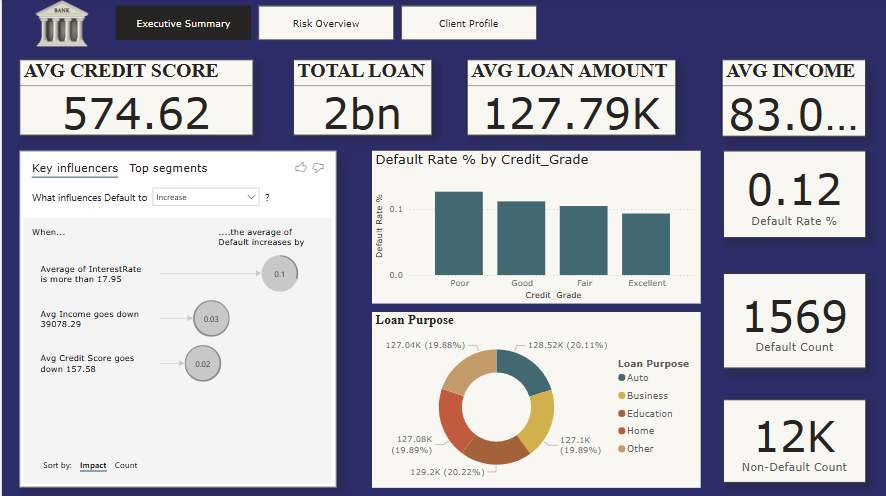

What the dashboard file says about the page in this screenshot:
{"tool":"powerbi","page":{"name":"Executive Summary","canvas":[1280,720],"ordinal":0},"visuals":[{"type":"card","title":"AVG LOAN AMOUNT","fields":{"Values":["loan_default_prediction loan_default_clean.Avg Loan Amount"]},"box":[662.8,89.6,297.2,108.1],"z":0},{"type":"card","title":"AVG INCOME","fields":{"Values":["loan_default_prediction loan_default_clean.Avg Income"]},"box":[1025.4,88.2,204.8,109.5],"z":1000},{"type":"card","title":"AVG CREDIT SCORE","fields":{"Values":["loan_default_prediction loan_default_clean.Avg Credit Score"]},"box":[25.6,88.2,332.8,108.1],"z":2000},{"type":"card","fields":{"Values":["loan_default_prediction loan_default_clean.Default Count"]},"box":[1026.8,392.5,203.4,135.1],"z":3000},{"type":"card","fields":{"Values":["loan_default_prediction loan_default_clean.Non-Default Count"]},"box":[1026.8,573.2,203.4,118],"z":4000},{"type":"card","fields":{"Values":["loan_default_prediction loan_default_clean.Default Rate"]},"box":[1026.8,219,203.4,123.7],"z":5000},{"type":"clusteredColumnChart","fields":{"Category":["loan_default_prediction loan_default_clean.Credit_Grade"],"Y":["loan_default_prediction loan_default_clean.Default Rate"]},"box":[527.6,219,467.9,217.6],"z":6000},{"type":"donutChart","title":" Loan Purpose","fields":{"Category":["loan_default_prediction loan_default_clean.LoanPurpose_Clean"],"Y":["loan_default_prediction loan_default_clean.Avg Loan Amount"]},"box":[527.6,448,467.9,250.3],"z":7000},{"type":"card","title":"TOTAL LOAN","fields":{"Values":["Sum(loan_default_prediction loan_default_clean.LoanAmount)"]},"box":[413.9,89.6,197.7,108.1],"z":8000},{"type":"keyDriversVisual","fields":{"Target":["loan_default_prediction loan_default_clean.Default_Target"],"ExplainBy":["loan_default_prediction loan_default_clean.Avg Income","loan_default_prediction loan_default_clean.Avg Credit Score","loan_default_prediction loan_default_clean.DTI_Risk_Level","Avg(loan_default_prediction loan_default_clean.LoanTerm)","Avg(loan_default_prediction loan_default_clean.InterestRate)","loan_default_prediction loan_default_clean.Education_Clean","Avg(loan_default_prediction loan_default_clean.HasDependents_Binary)","Avg(loan_default_prediction loan_default_clean.HasMortgage_Binary)"]},"box":[25.6,219,450.8,479.3],"z":9000},{"type":"image","box":[37,0,96.7,75.4],"z":10000},{"type":"pageNavigator","box":[162.1,12.8,600.2,49.8],"z":11000}]}

Visuals, with their boxes in screenshot pixels (x1, y1, x2, y2), scaled from the page's 1280x720 canvas onto the 886x496 screenshot:
"AVG LOAN AMOUNT" card: l=459, t=62, r=664, b=136
"AVG INCOME" card: l=710, t=61, r=852, b=136
"AVG CREDIT SCORE" card: l=18, t=61, r=248, b=135
card - loan_default_prediction loan_default_clean.Default Count: l=711, t=270, r=852, b=363
card - loan_default_prediction loan_default_clean.Non-Default Count: l=711, t=395, r=852, b=476
card - loan_default_prediction loan_default_clean.Default Rate: l=711, t=151, r=852, b=236
clusteredColumnChart - loan_default_prediction loan_default_clean.Credit_Grade x loan_default_prediction loan_default_clean.Default Rate: l=365, t=151, r=689, b=301
" Loan Purpose" donutChart: l=365, t=309, r=689, b=481
"TOTAL LOAN" card: l=286, t=62, r=423, b=136
keyDriversVisual - loan_default_prediction loan_default_clean.Default_Target x loan_default_prediction loan_default_clean.Avg Income: l=18, t=151, r=330, b=481
image: l=26, t=0, r=93, b=52
pageNavigator: l=112, t=9, r=528, b=43
